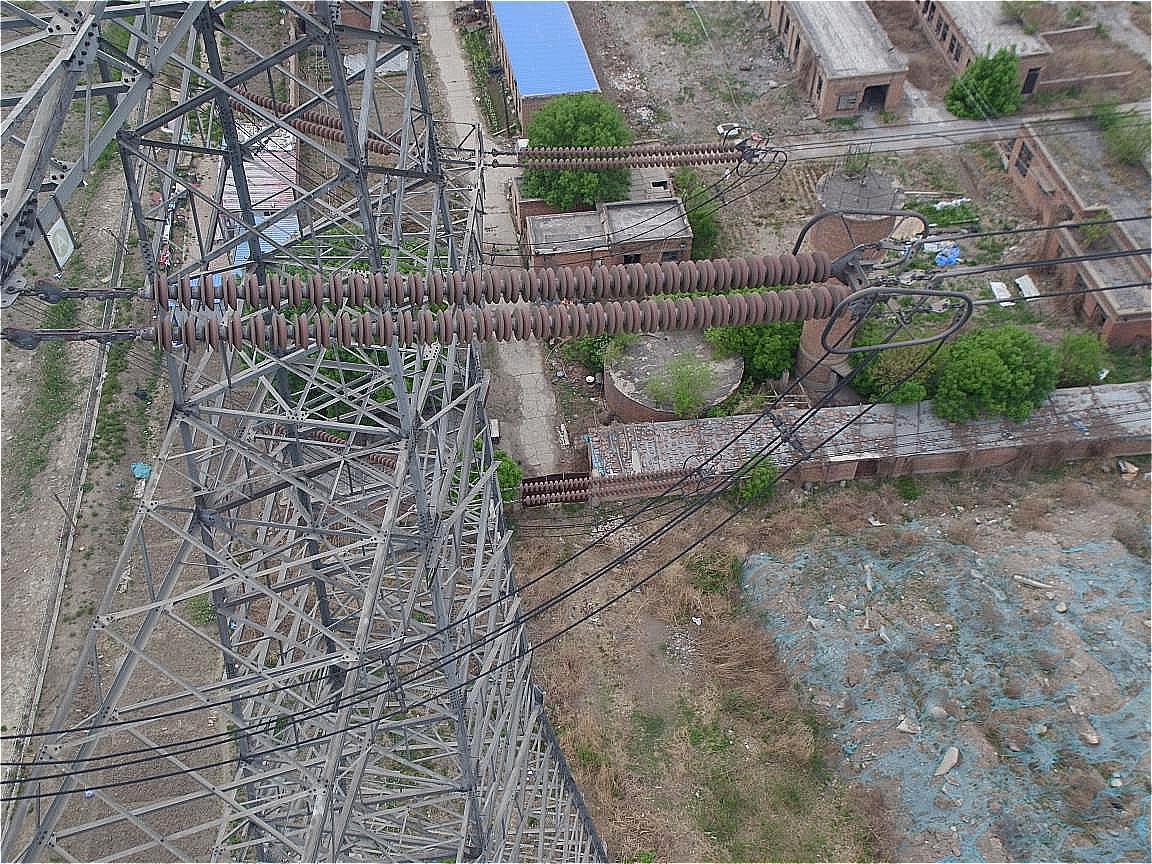insultor1: (508, 135, 773, 171)
insultor2: (134, 241, 865, 344)
